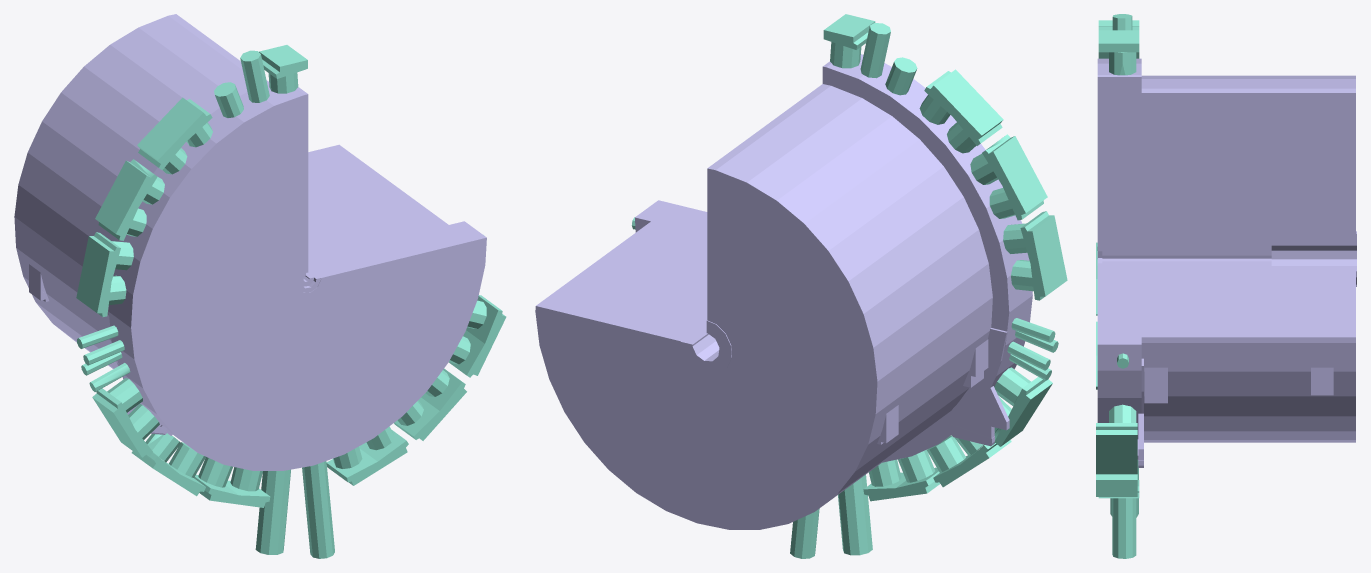
The model's file is Lar-EMEC-SideA-cut4.glb.
3 views of the same model, side by side, from view 1: azimuth 30°, elevation 25°; view 2: azimuth 150°, elevation 25°; view 3: azimuth 270°, elevation 25° (orthographic). The views are drawn at different scales.
Visible parts, largest first — view 1: null.006; view 2: null.006; view 3: null.006.
Boxes of the visible parts, x1,y1,x2,y2 form: null.006: (14,14,506,558); null.006: (535,14,1067,558); null.006: (1096,14,1356,558).
Bounding box in the file's own units: 5.7 × 6.88 × 3.21.
